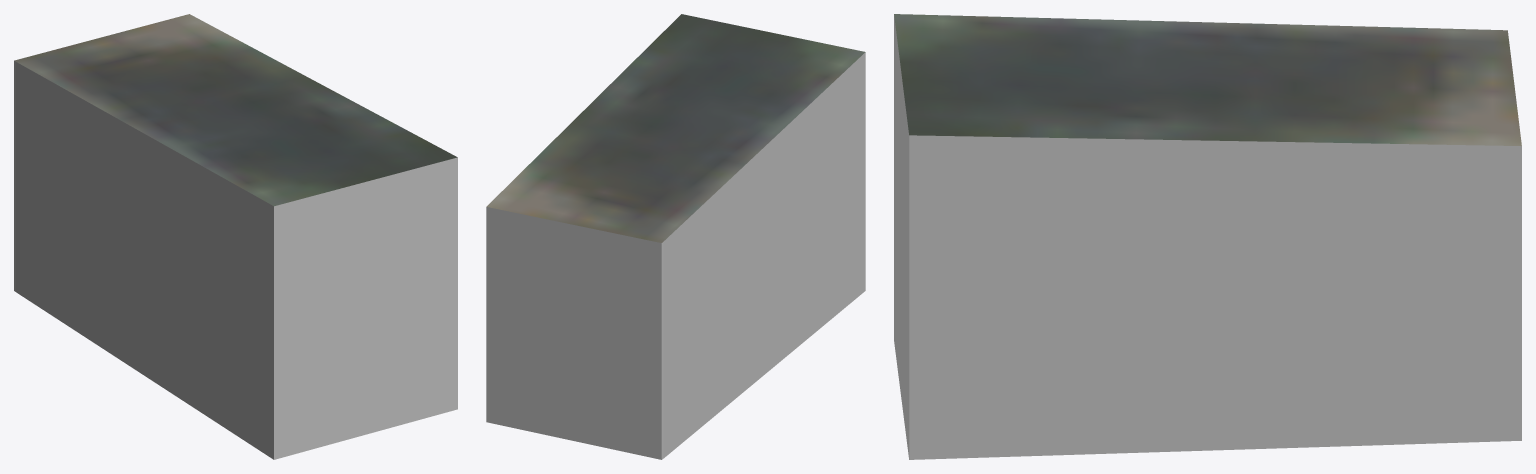
The model's file is DEBW_0010007TxeQ.gltf.
3 views of the same model, side by side, from view 1: azimuth 30°, elevation 25°; view 2: azimuth 150°, elevation 25°; view 3: azimuth 270°, elevation 25° (orthographic). The views are drawn at different scales.
Parts seen in each view (by area): view 1: Z_UP; view 2: Z_UP; view 3: Z_UP.
Part boxes in pixels (x1,y1,x2,y2): Z_UP: [14, 14, 457, 459]; Z_UP: [486, 14, 865, 459]; Z_UP: [894, 14, 1521, 459].
Bounding box in the file's own units: 3.12 × 3.58 × 6.23.
Materials: 2 (1 with a texture image).
